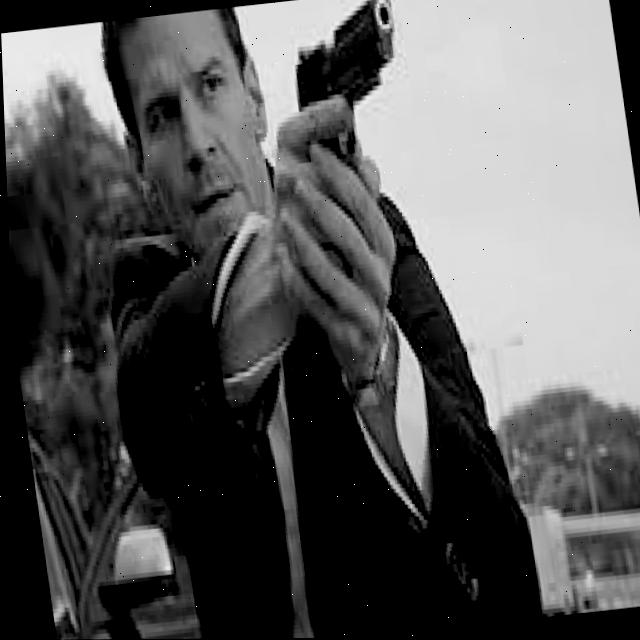pistol: (281, 0, 409, 165)
